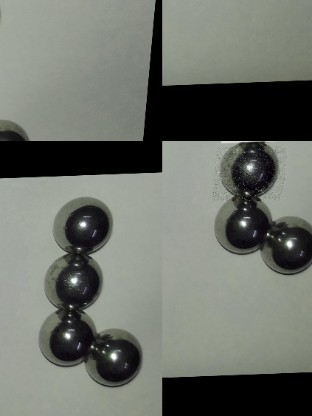ironball: (215, 146, 290, 203), (212, 202, 275, 268), (30, 303, 94, 364), (41, 248, 106, 308), (51, 196, 116, 251), (86, 324, 142, 387), (269, 206, 312, 281), (0, 122, 34, 140)
